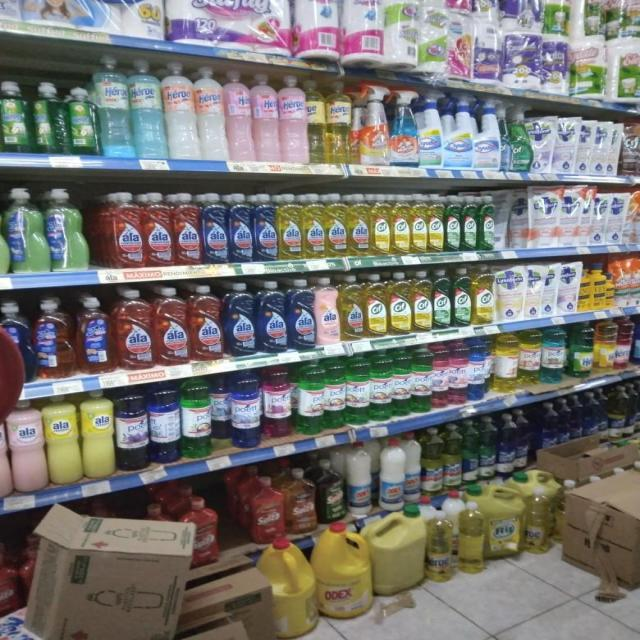ala_conc_amarillo: (277, 193, 301, 260), (340, 274, 364, 341), (302, 193, 324, 259), (325, 193, 347, 258), (348, 193, 370, 257)
ala_conc_azul: (224, 282, 256, 356), (257, 280, 287, 353), (288, 278, 314, 350), (202, 192, 227, 264), (229, 192, 253, 264), (254, 193, 276, 262)
ala_conc_rojo: (102, 191, 142, 269), (115, 289, 152, 369), (154, 286, 188, 366), (190, 284, 223, 362), (144, 192, 173, 267), (173, 192, 200, 266)
ala_crem_amarillo: (46, 394, 80, 486), (81, 389, 115, 479)
ala_crem_rosado: (9, 400, 44, 494), (0, 404, 7, 499)
ala_ultra_rosa: (315, 276, 339, 346)
cif_conc_bot_amarilla: (364, 272, 388, 338), (389, 271, 411, 335), (472, 264, 494, 326), (412, 270, 432, 332), (371, 194, 390, 256), (391, 194, 410, 255), (411, 193, 427, 254), (428, 194, 444, 252)
cif_conc_botella_verde: (452, 267, 472, 327), (433, 269, 451, 330), (445, 194, 461, 252), (478, 194, 494, 251), (462, 194, 477, 252)
zorro: (9, 186, 47, 274), (0, 188, 7, 276)
